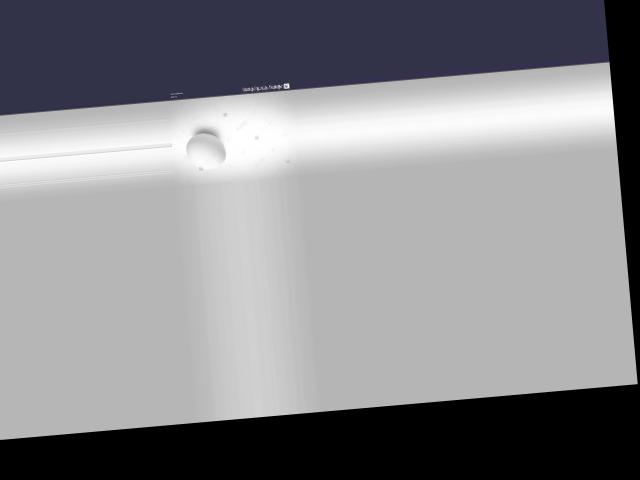egg: (183, 130, 226, 169)
